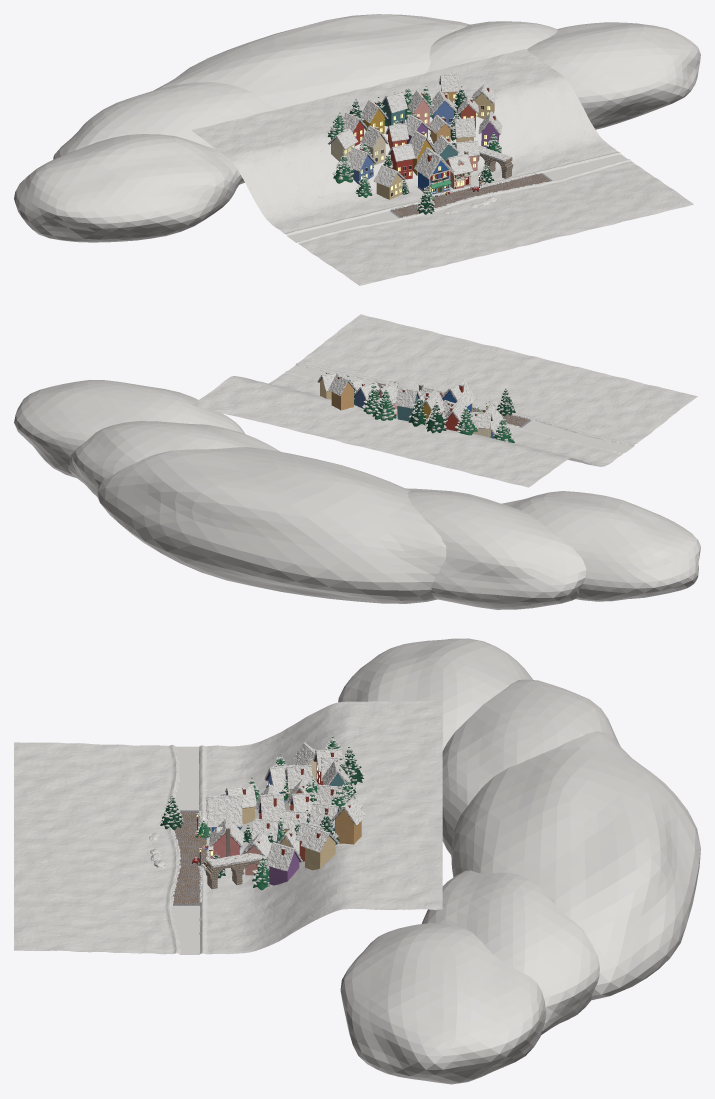
File: toytown_seq.glb
The picture shows the model from 3 angles, top to bottom: view 1: azimuth 30°, elevation 25°; view 2: azimuth 150°, elevation 25°; view 3: azimuth 270°, elevation 25°; orthographic projection. The views are drawn at different scales.
Visible parts, largest first — view 1: GroundSnow, Snow, Cobble, Needles_0.102, Needles_0.05, StreetBed.001, CreamWood, BgGlow; view 2: GroundSnow, Snow, Needles_0.102, Needles_0.05; view 3: GroundSnow, Snow, Cobble, StreetBed.001, Needles_0.05, Needles_0.102.
Part boxes in pixels (left/top/right/bottom): GroundSnow: left=14, top=14, right=700, bottom=285; Snow: left=327, top=73, right=512, bottom=211; Cobble: left=391, top=173, right=550, bottom=217; Needles_0.102: left=327, top=86, right=501, bottom=197; Needles_0.05: left=349, top=86, right=494, bottom=214; StreetBed.001: left=390, top=173, right=552, bottom=218; CreamWood: left=344, top=94, right=490, bottom=196; BgGlow: left=344, top=94, right=490, bottom=194; GroundSnow: left=14, top=314, right=700, bottom=609; Snow: left=317, top=371, right=515, bottom=441; Needles_0.102: left=363, top=383, right=514, bottom=442; Needles_0.05: left=347, top=376, right=515, bottom=433; GroundSnow: left=14, top=638, right=700, bottom=1084; Snow: left=160, top=736, right=365, bottom=886; Cobble: left=173, top=811, right=206, bottom=904; StreetBed.001: left=173, top=810, right=206, bottom=905; Needles_0.05: left=160, top=747, right=363, bottom=878; Needles_0.102: left=249, top=736, right=355, bottom=890.
Bounding box in the file's own units: 170 × 30.52 × 118.
